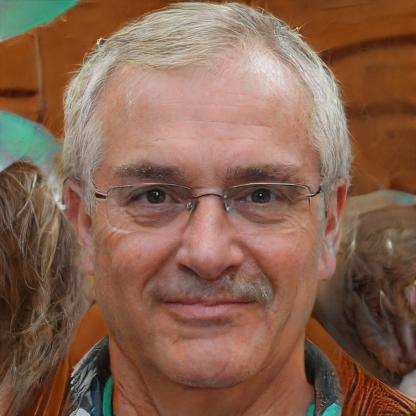glasses: (93, 176, 323, 238)
